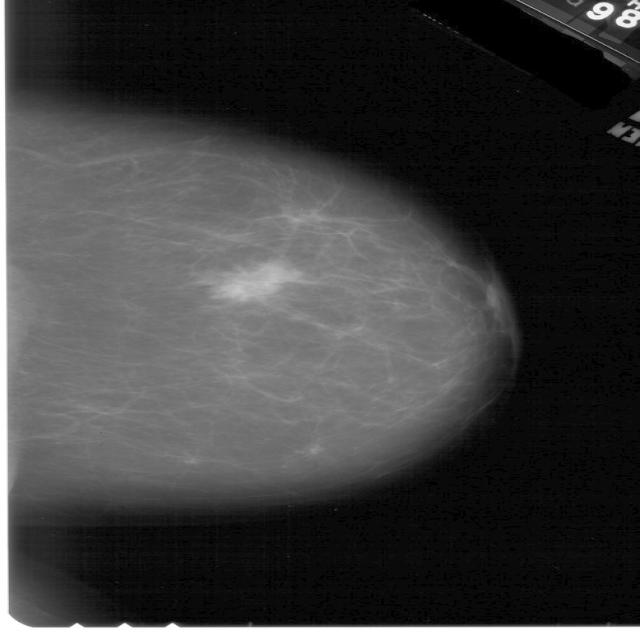tumour: (210, 258, 304, 300)
